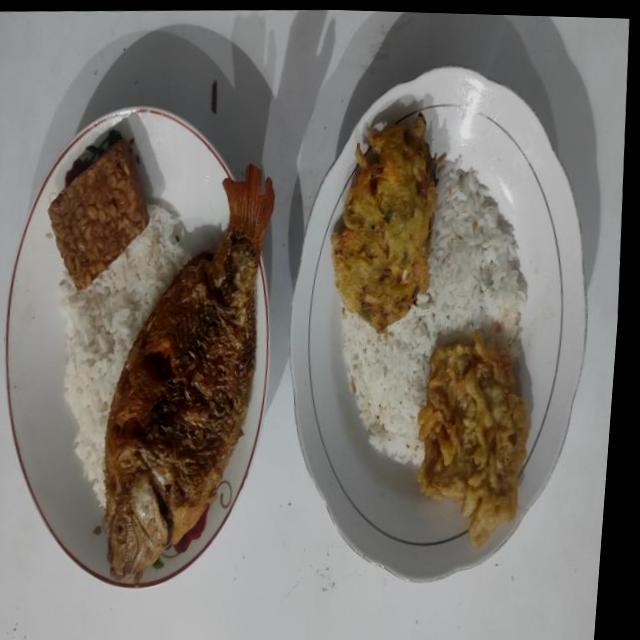ikan_mujair: (104, 166, 274, 577)
nasi_putih: (342, 160, 528, 464), (59, 204, 192, 507)
tempe_goreng: (48, 138, 149, 290)
